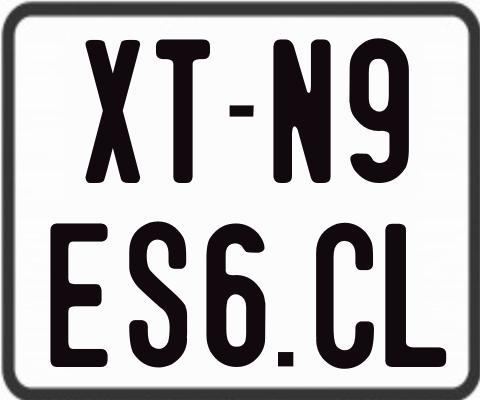6: (203, 221, 265, 369)
9: (347, 36, 408, 184)
C: (314, 223, 374, 370)
E: (50, 223, 110, 368)
L: (382, 224, 445, 368)
N: (271, 36, 333, 180)
S: (128, 218, 191, 365)
T: (153, 39, 212, 183)
X: (84, 37, 142, 186)
